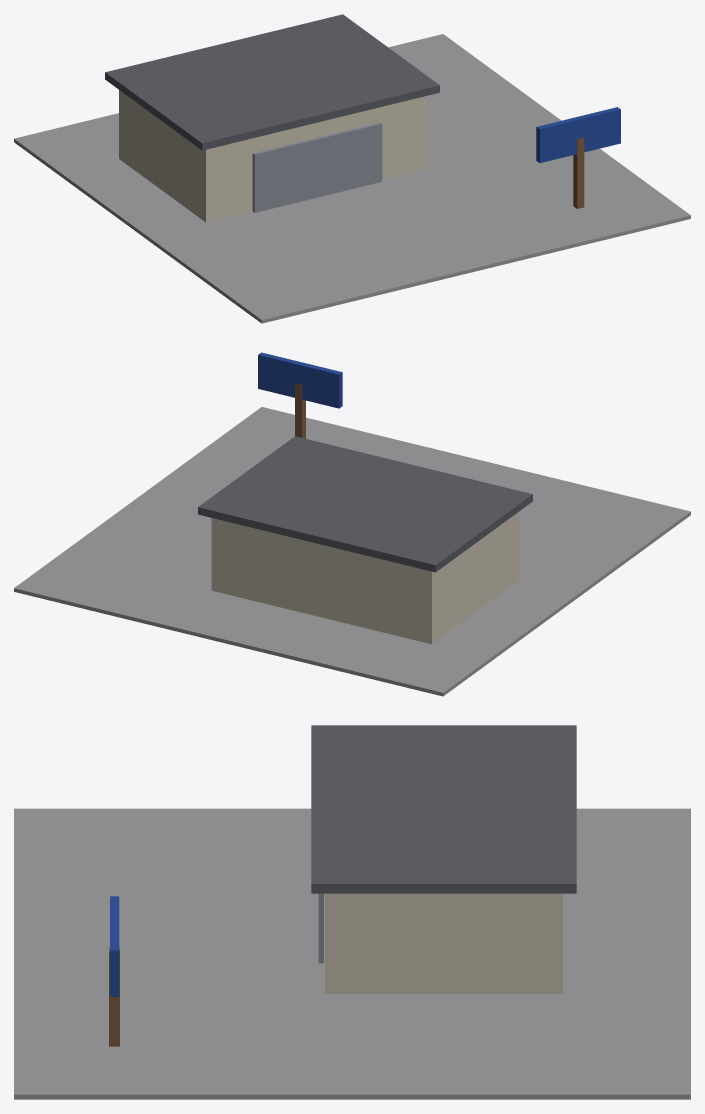
Rendered from hq_0_garage.glb.
3 views of the same model, one above another, from view 1: azimuth 30°, elevation 25°; view 2: azimuth 150°, elevation 25°; view 3: azimuth 270°, elevation 25° (orthographic). The views are drawn at different scales.
Visible parts, largest first — view 1: Yard, ShedRoof, Shed, Door, Sign, SignPost; view 2: Yard, ShedRoof, Shed, Sign, SignPost; view 3: Yard, ShedRoof, Shed, Sign, SignPost.
Part boxes in pixels (left/top/right/bottom): Yard: left=14, top=34, right=690, bottom=323; ShedRoof: left=105, top=14, right=439, bottom=150; Shed: left=119, top=90, right=426, bottom=222; Door: left=252, top=122, right=382, bottom=212; Sign: left=536, top=107, right=620, bottom=162; SignPost: left=573, top=138, right=584, bottom=208; Yard: left=14, top=407, right=690, bottom=696; ShedRoof: left=198, top=436, right=532, bottom=572; Shed: left=211, top=512, right=518, bottom=644; Sign: left=258, top=352, right=342, bottom=408; SignPost: left=295, top=383, right=305, bottom=438; Yard: left=14, top=808, right=690, bottom=1099; ShedRoof: left=311, top=725, right=576, bottom=893; Shed: left=325, top=893, right=562, bottom=993; Sign: left=110, top=896, right=119, bottom=996; SignPost: left=109, top=947, right=119, bottom=1046.
Bounding box in the file's own units: 3.7 × 0.76 × 3.7.
